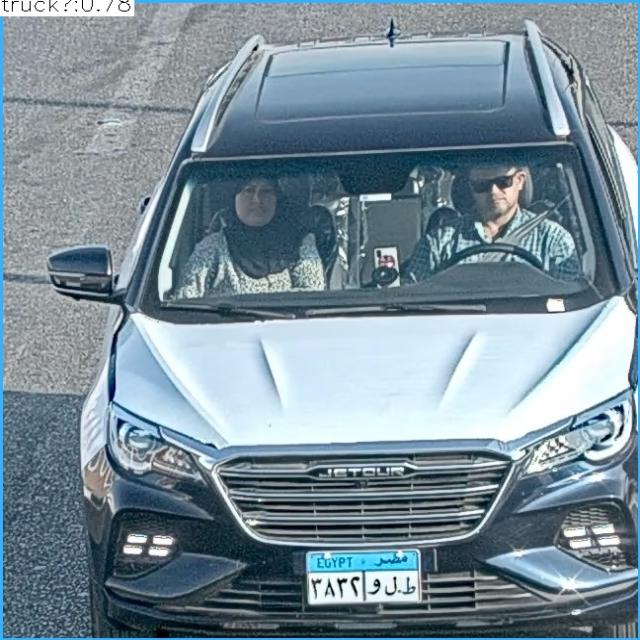windshield: (145, 144, 610, 308)
